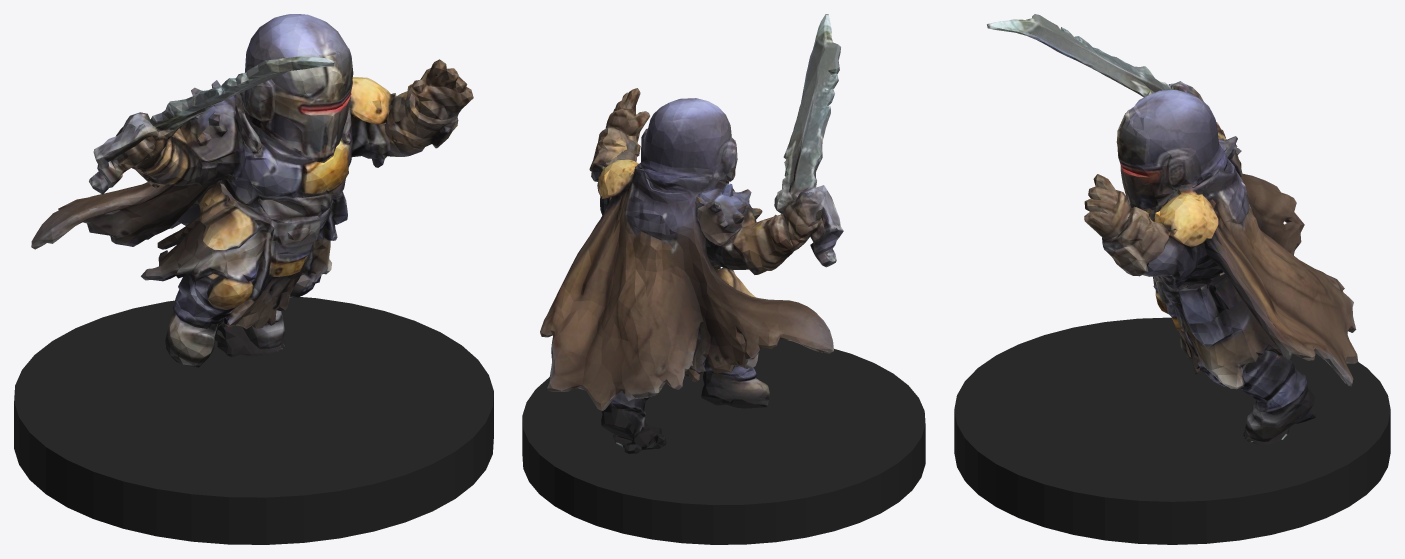
Rendered from cc-blessed-blade-b.glb.
The picture shows the model from 3 angles, left to right: view 1: azimuth 30°, elevation 25°; view 2: azimuth 150°, elevation 25°; view 3: azimuth 270°, elevation 25°; orthographic projection. The views are drawn at different scales.
Parts seen in each view (by area): view 1: base, figure; view 2: figure, base; view 3: base, figure.
Part boxes in pixels (x1,y1,x2,y2): base: [14, 297, 493, 544]; figure: [31, 14, 473, 367]; figure: [540, 14, 843, 453]; base: [522, 339, 925, 544]; base: [954, 317, 1390, 544]; figure: [987, 14, 1358, 445].
Bounding box in the file's own units: 1.1 × 1.17 × 1.1.
2 materials, 1 textured.
